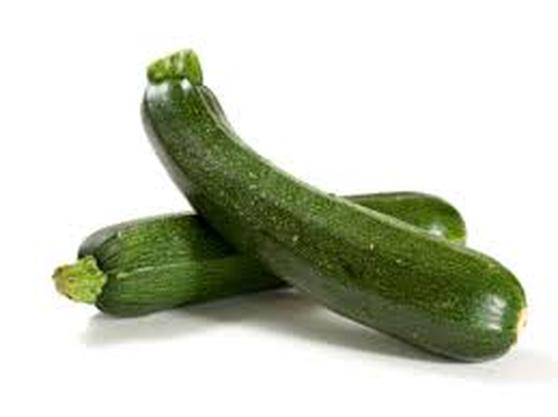zucchini: (139, 49, 526, 366)
